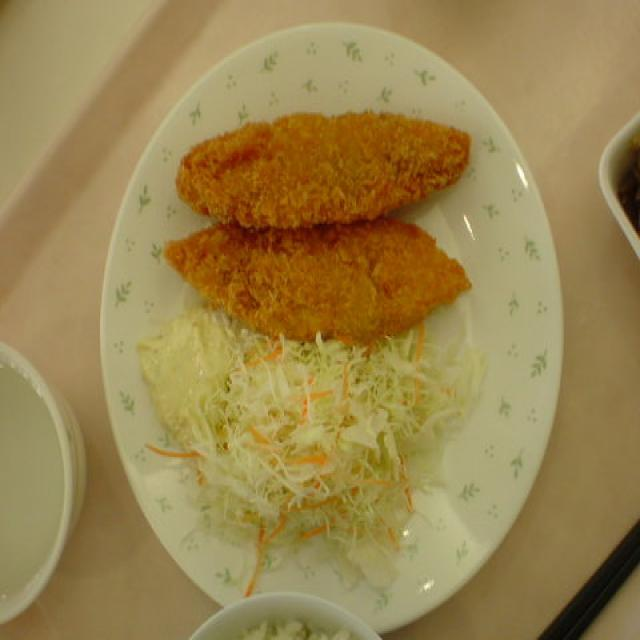炸货点心: (76, 18, 568, 629)
熟制海鲜: (76, 18, 568, 629)
